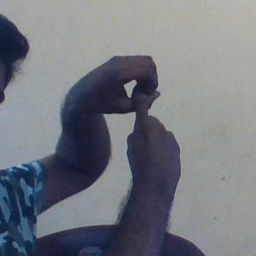Q: (67, 50, 186, 173)
